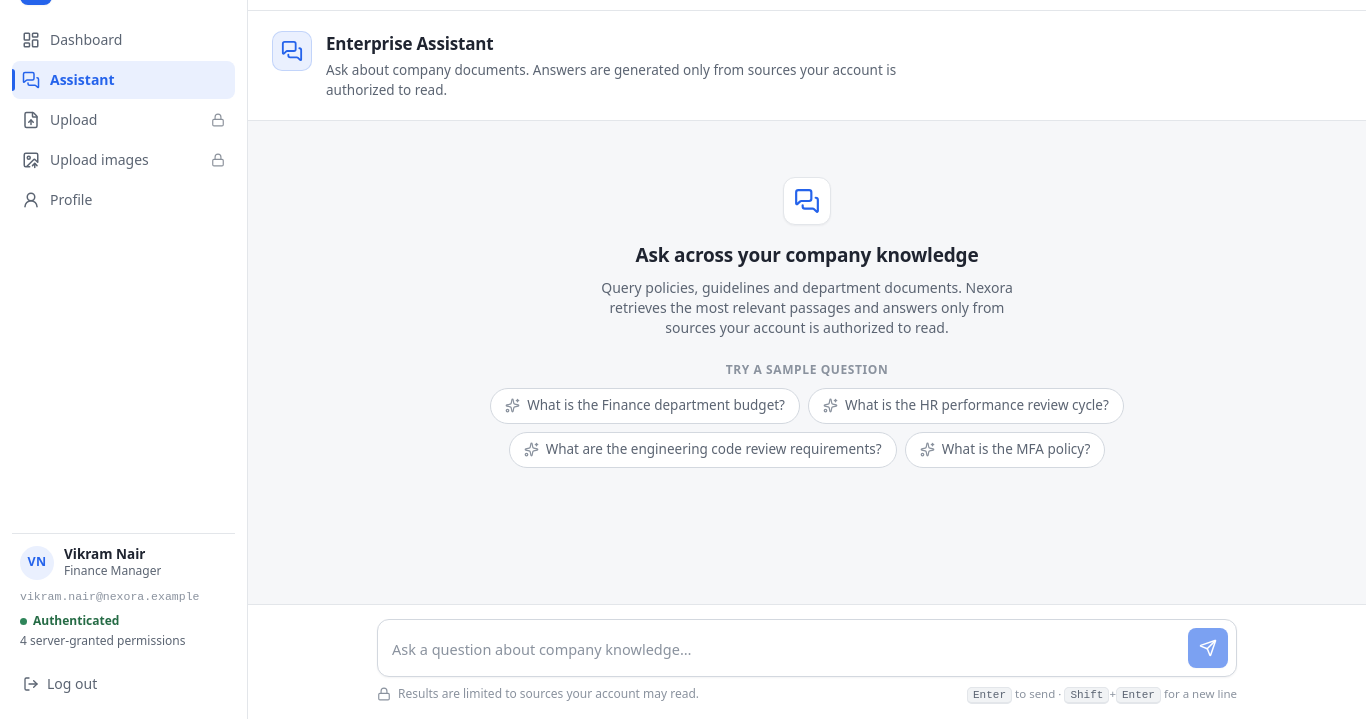
Test case: TrustProof receipt: answered › reports partial citation validation without hiding the answer
Type "What is the Finance budget?" into the text box labelled "Ask a question". click: point(785, 650)
box: [392,632,1178,668]
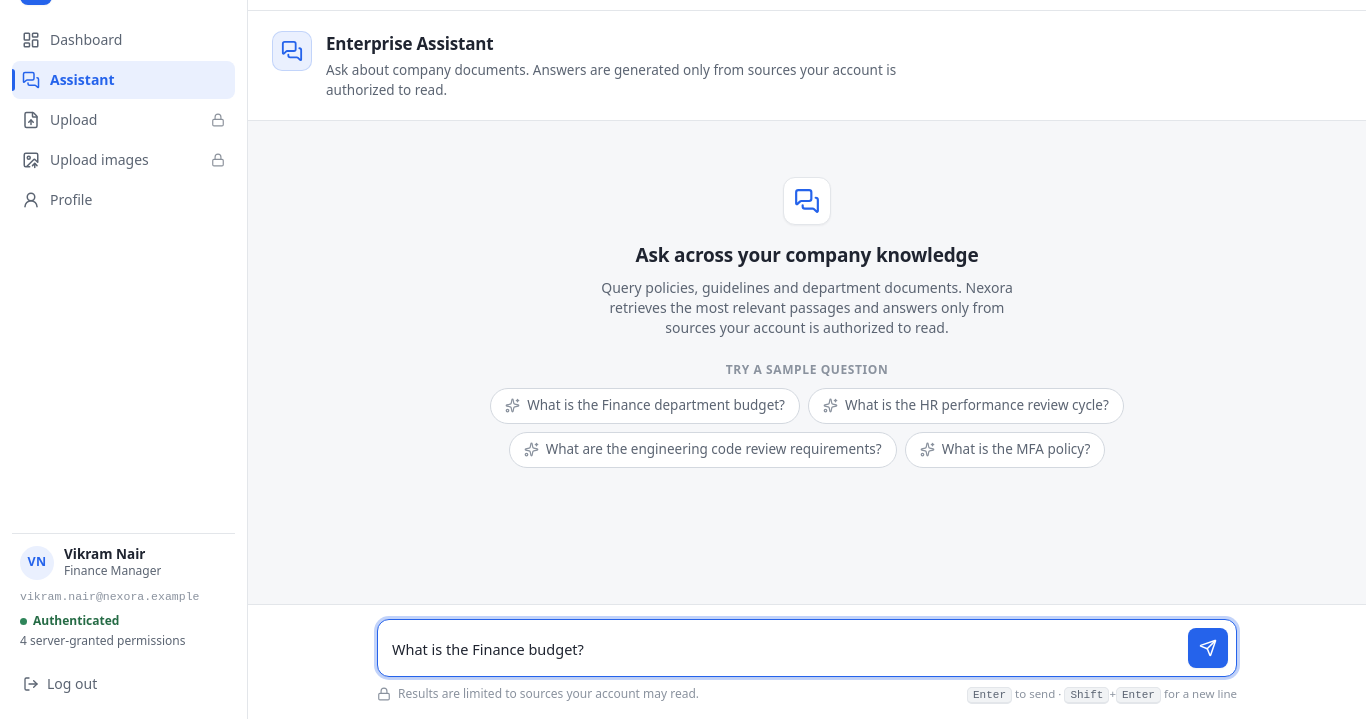
Click the button named "Send question". click: point(1208, 648)
box: [1188,628,1228,668]
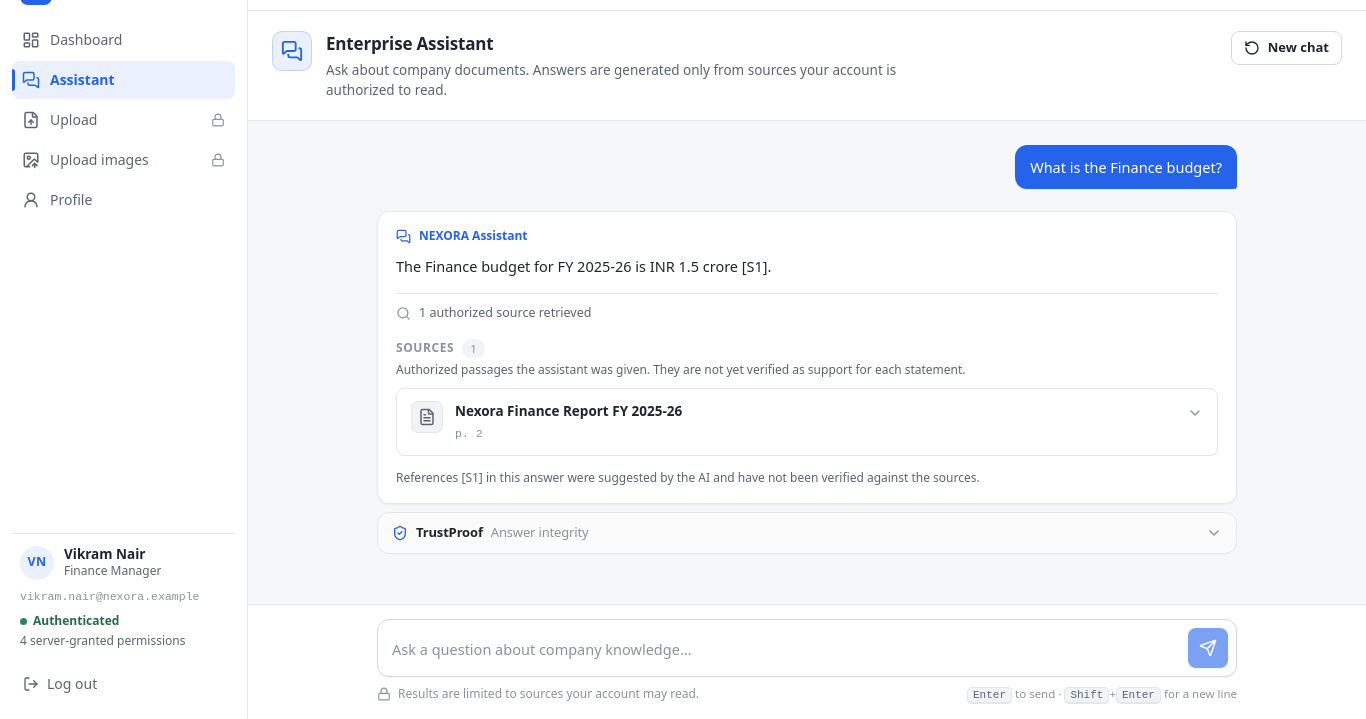
expect the text "The Finance budget for FY 2025-26 is INR 1.5 crore [S1]." is shown: met, box [396,256,772,276]
Click the button "TrustProof Answer integrity". click: point(449, 532)
box: [378,513,1236,553]
(page scrolled)
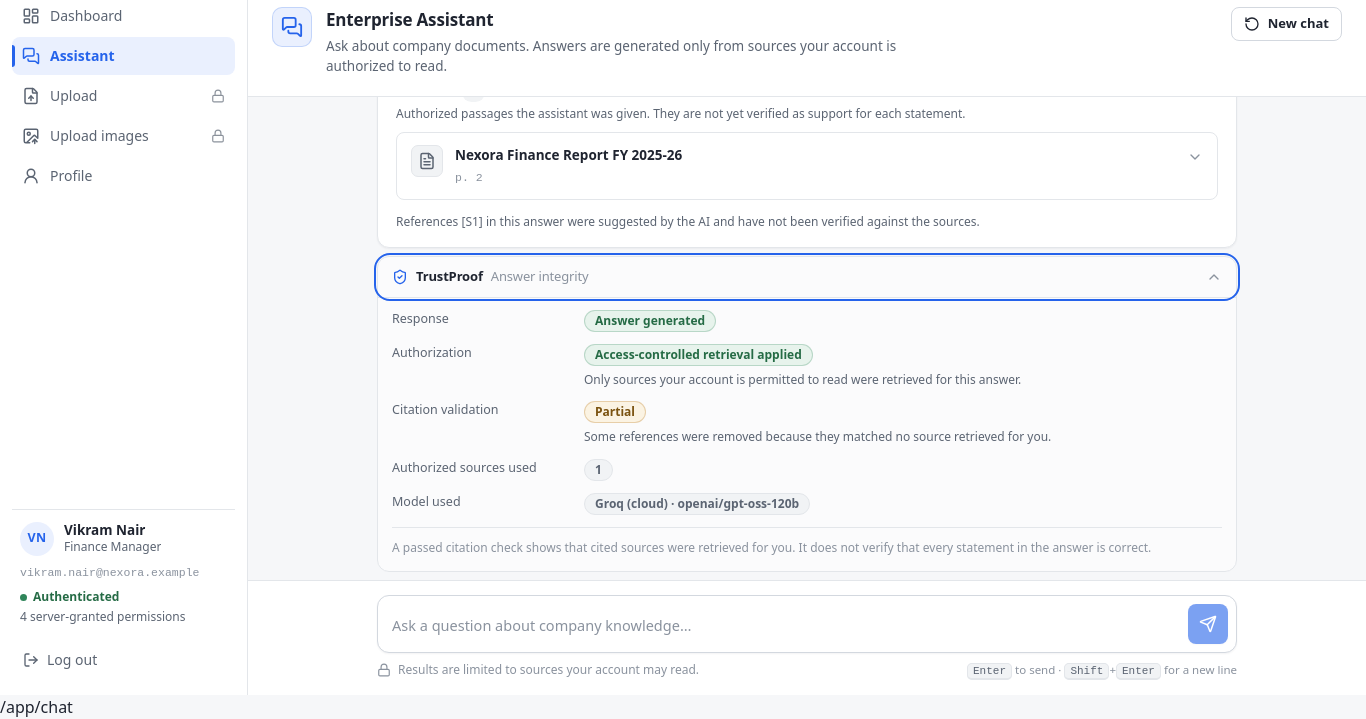
expect the text "Partial" is shown: met, box [584,401,646,423]
expect the element with test id "trustproof" shows "matched no source retrieved for you": met, box [584,428,1051,445]
